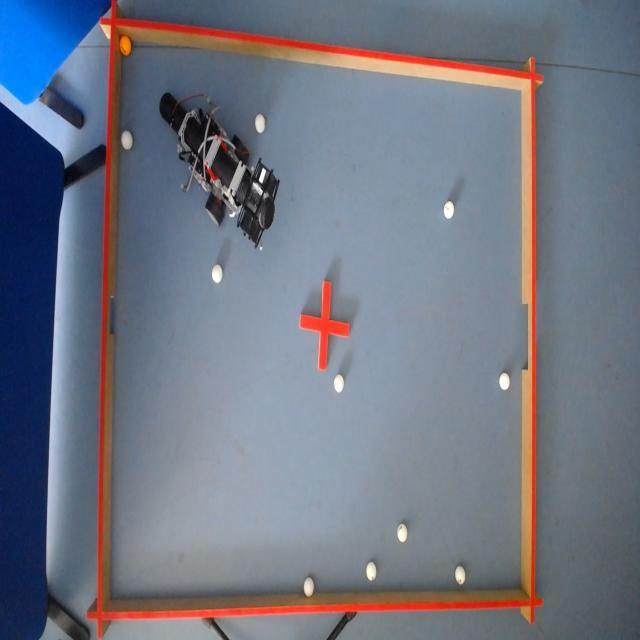robot: (156, 92, 278, 244)
white: (453, 564, 466, 590), (397, 521, 410, 543), (120, 128, 132, 150), (443, 199, 456, 219), (498, 372, 511, 391), (365, 562, 377, 582), (302, 576, 314, 596), (334, 372, 344, 392), (256, 114, 266, 133), (213, 264, 223, 282), (121, 37, 130, 56)
